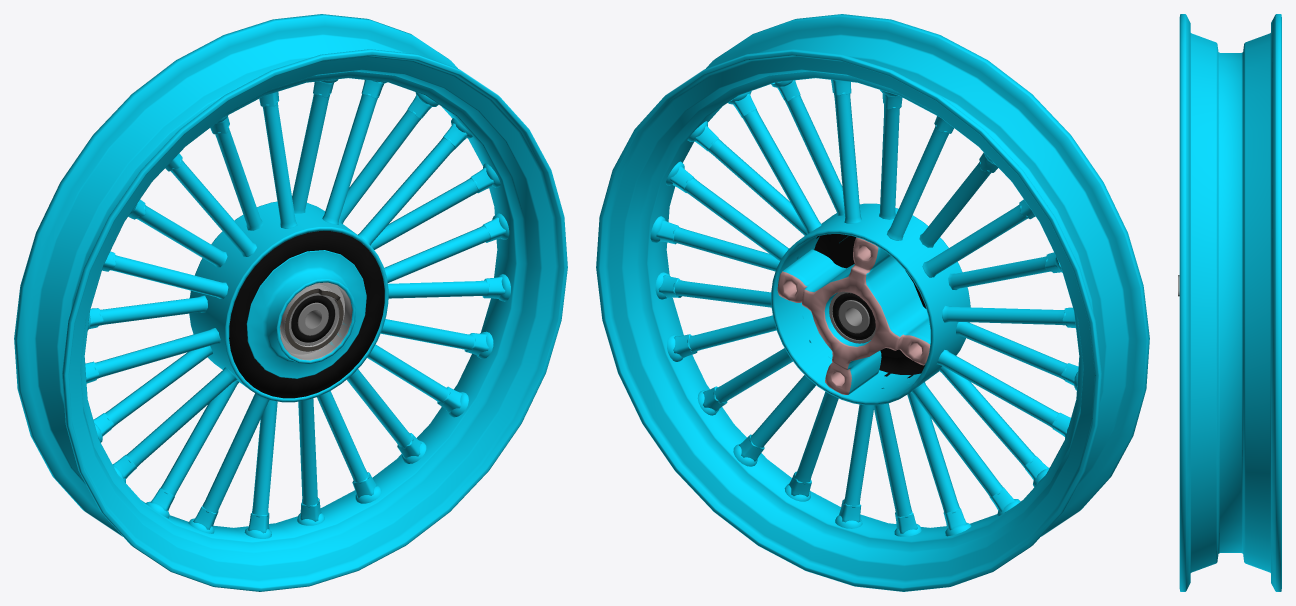
3 renders of one model, left to right at view 1: azimuth 30°, elevation 25°; view 2: azimuth 150°, elevation 25°; view 3: azimuth 270°, elevation 25°, orthographic.
Parts seen in each view (by area): view 1: Circle.001; view 2: Circle.001; view 3: Circle.001.
Part boxes in pixels (box(x1,y1,x2,y2)): Circle.001: box(14, 14, 567, 591); Circle.001: box(596, 14, 1149, 591); Circle.001: box(1178, 14, 1281, 591).
Bounding box in the file's own units: 0.3907 × 0.3907 × 0.07.
